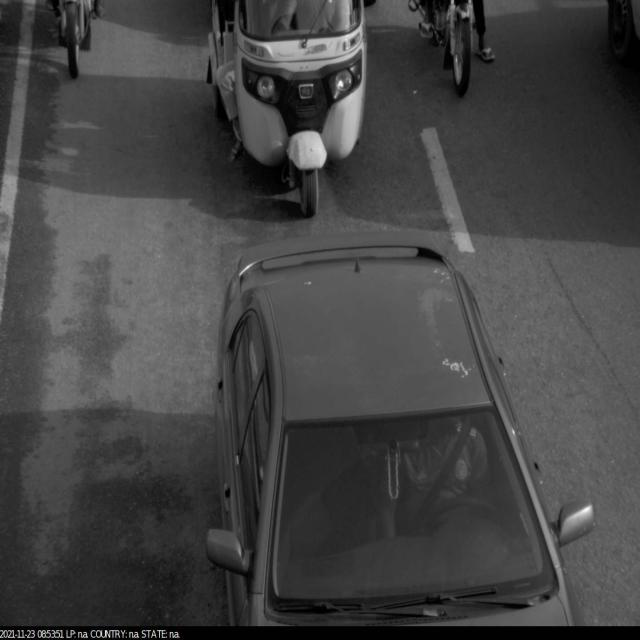windshield: (253, 384, 564, 618)
